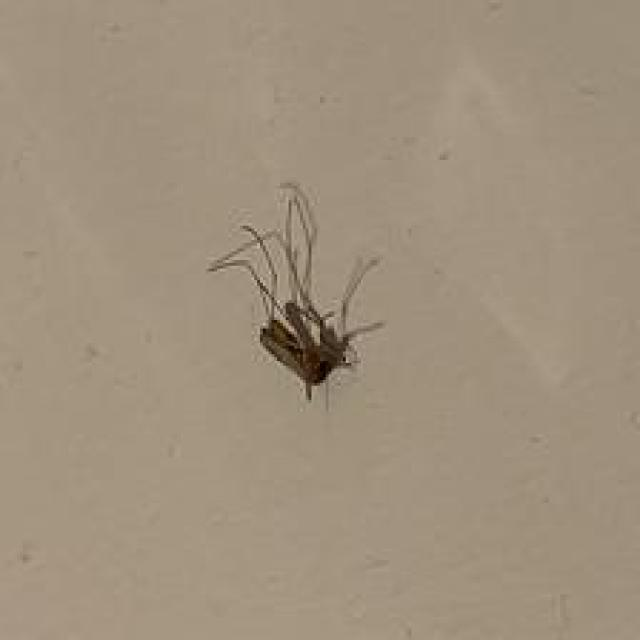Culex: (206, 180, 386, 409)
